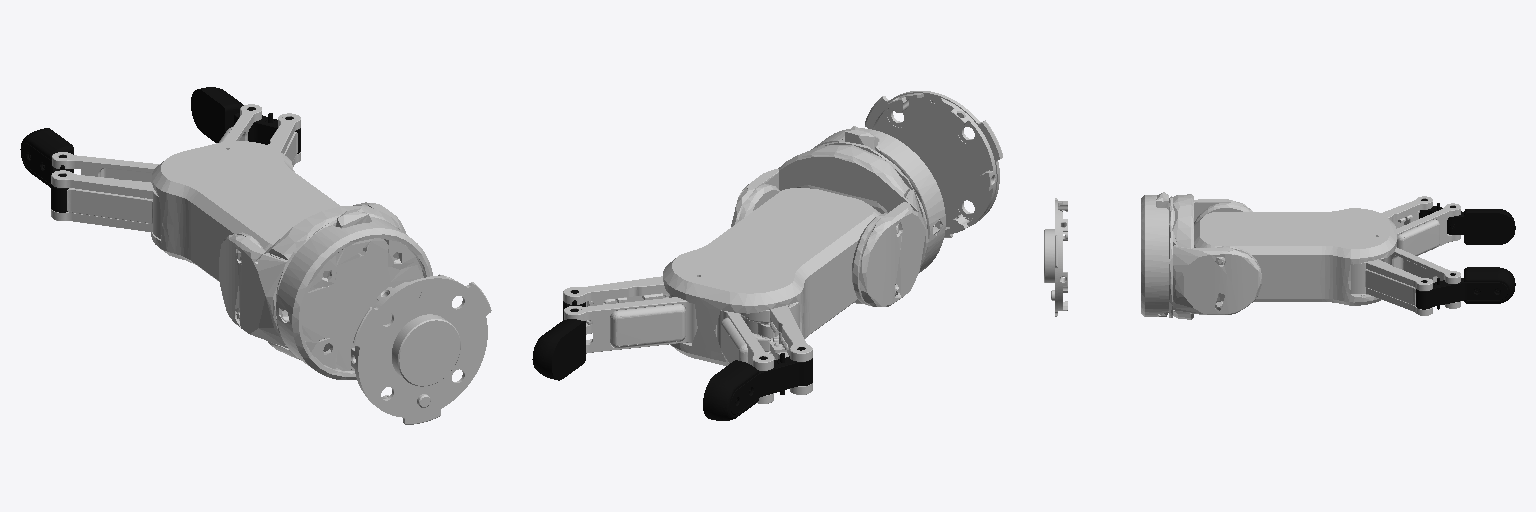
--- Facts derived from the render (not from the file) ---
Views: 3 orthographic renders of the robot side by side, from view 1: azimuth 30°, elevation 25°; view 2: azimuth 150°, elevation 25°; view 3: azimuth 270°, elevation 25°.
Model ur10e_robot_rg2 with 19 links and 18 joints (12 revolute, 6 fixed), rooted at base_link, posed every joint at zero.
Links seen in each view (by area): view 1: onrobot_rg2_base_link, hex_backplate_link, left_outer_knuckle, right_inner_finger, left_inner_finger, left_inner_knuckle, right_outer_knuckle, right_inner_knuckle; view 2: onrobot_rg2_base_link, hex_backplate_link, right_inner_knuckle, left_inner_finger, left_outer_knuckle, right_inner_finger, right_outer_knuckle, left_inner_knuckle; view 3: onrobot_rg2_base_link, right_inner_finger, right_outer_knuckle, left_inner_finger, left_inner_knuckle, hex_backplate_link, right_inner_knuckle, left_outer_knuckle.
Link boxes in pixels (<box>): onrobot_rg2_base_link: <box>151,141,432,379</box>; hex_backplate_link: <box>351,274,491,424</box>; left_outer_knuckle: <box>51,170,162,238</box>; right_inner_finger: <box>191,87,300,153</box>; left_inner_finger: <box>20,128,73,212</box>; left_inner_knuckle: <box>52,152,159,182</box>; right_outer_knuckle: <box>268,113,300,166</box>; right_inner_knuckle: <box>219,104,261,142</box>; onrobot_rg2_base_link: <box>663,126,945,365</box>; hex_backplate_link: <box>865,91,1002,237</box>; right_inner_knuckle: <box>564,297,697,353</box>; left_inner_finger: <box>703,347,812,420</box>; left_outer_knuckle: <box>740,302,812,394</box>; right_inner_finger: <box>532,290,585,380</box>; right_outer_knuckle: <box>563,276,673,334</box>; left_inner_knuckle: <box>717,310,773,403</box>; onrobot_rg2_base_link: <box>1141,192,1396,319</box>; right_inner_finger: <box>1416,267,1515,309</box>; right_outer_knuckle: <box>1350,259,1432,315</box>; left_inner_finger: <box>1419,199,1515,244</box>; left_inner_knuckle: <box>1396,203,1460,255</box>; hex_backplate_link: <box>1044,198,1067,316</box>; right_inner_knuckle: <box>1382,247,1460,308</box>; left_outer_knuckle: <box>1381,196,1432,228</box>.
Bounding box of the posed robot: 0.1235 × 0.2728 × 0.0753 m (x, y, z).
Meshes: 13 distinct files referenced, 8 mesh visuals loaded (5 Collada DAE); not drawn: 8 (reference not matched to a file when rendering).

URDF robot description (ur10e_robot_rg2):
<?xml version="1.0" encoding="utf-8" ?>
<!-- =================================================================================== -->
<!-- |    This document was autogenerated by xacro from ur10e_rg2.urdf.xacro           | -->
<!-- |    EDITING THIS FILE BY HAND IS NOT RECOMMENDED                                 | -->
<!-- =================================================================================== -->
<!-- =================================================================================== -->
<!-- |    This document was autogenerated by xacro from ur10e.xacro                    | -->
<!-- |    EDITING THIS FILE BY HAND IS NOT RECOMMENDED                                 | -->
<!-- =================================================================================== -->
<robot name="ur10e_robot_rg2">
    <transmission name="shoulder_pan_trans">
        <type>transmission_interface/SimpleTransmission</type>
        <joint name="shoulder_pan_joint">
            <hardwareInterface>hardware_interface/PositionJointInterface</hardwareInterface>
        </joint>
        <actuator name="shoulder_pan_motor">
            <mechanicalReduction>1</mechanicalReduction>
        </actuator>
    </transmission>
    <transmission name="shoulder_lift_trans">
        <type>transmission_interface/SimpleTransmission</type>
        <joint name="shoulder_lift_joint">
            <hardwareInterface>hardware_interface/PositionJointInterface</hardwareInterface>
        </joint>
        <actuator name="shoulder_lift_motor">
            <mechanicalReduction>1</mechanicalReduction>
        </actuator>
    </transmission>
    <transmission name="elbow_trans">
        <type>transmission_interface/SimpleTransmission</type>
        <joint name="elbow_joint">
            <hardwareInterface>hardware_interface/PositionJointInterface</hardwareInterface>
        </joint>
        <actuator name="elbow_motor">
            <mechanicalReduction>1</mechanicalReduction>
        </actuator>
    </transmission>
    <transmission name="wrist_1_trans">
        <type>transmission_interface/SimpleTransmission</type>
        <joint name="wrist_1_joint">
            <hardwareInterface>hardware_interface/PositionJointInterface</hardwareInterface>
        </joint>
        <actuator name="wrist_1_motor">
            <mechanicalReduction>1</mechanicalReduction>
        </actuator>
    </transmission>
    <transmission name="wrist_2_trans">
        <type>transmission_interface/SimpleTransmission</type>
        <joint name="wrist_2_joint">
            <hardwareInterface>hardware_interface/PositionJointInterface</hardwareInterface>
        </joint>
        <actuator name="wrist_2_motor">
            <mechanicalReduction>1</mechanicalReduction>
        </actuator>
    </transmission>
    <transmission name="wrist_3_trans">
        <type>transmission_interface/SimpleTransmission</type>
        <joint name="wrist_3_joint">
            <hardwareInterface>hardware_interface/PositionJointInterface</hardwareInterface>
        </joint>
        <actuator name="wrist_3_motor">
            <mechanicalReduction>1</mechanicalReduction>
        </actuator>
    </transmission>
    <!-- links: main serial chain -->
    <link name="base_link" />
    <link name="base_link_inertia">
        <visual>
            <origin rpy="0 0 3.14159265359" xyz="0 0 0" />
            <geometry>
                <mesh filename="package://ur10e_rg2_hex_tracik_moveit_config/description/meshes/ur10e/visual/base.dae" />
            </geometry>
            <material name="LightGrey">
                <color rgba="0.7 0.7 0.7 1.0" />
            </material>
        </visual>
        <collision>
            <origin rpy="0 0 3.14159265359" xyz="0 0 0" />
            <geometry>
                <mesh filename="package://ur10e_rg2_hex_tracik_moveit_config/description/meshes/ur10e/collision/base.stl" />
            </geometry>
        </collision>
        <inertial>
            <mass value="4.0" />
            <origin rpy="0 0 0" xyz="0 0 0" />
            <inertia ixx="0.0061063308908" ixy="0.0" ixz="0.0" iyy="0.0061063308908" iyz="0.0" izz="0.01125" />
        </inertial>
    </link>
    <link name="shoulder_link">
        <visual>
            <origin rpy="0 0 3.14159265359" xyz="0 0 0" />
            <geometry>
                <mesh filename="package://ur10e_rg2_hex_tracik_moveit_config/description/meshes/ur10e/visual/shoulder.dae" />
            </geometry>
            <material name="LightGrey">
                <color rgba="0.7 0.7 0.7 1.0" />
            </material>
        </visual>
        <collision>
            <origin rpy="0 0 3.14159265359" xyz="0 0 0" />
            <geometry>
                <mesh filename="package://ur10e_rg2_hex_tracik_moveit_config/description/meshes/ur10e/collision/shoulder.stl" />
            </geometry>
        </collision>
        <inertial>
            <mass value="7.778" />
            <origin rpy="0 0 0" xyz="0 0 0" />
            <inertia ixx="0.0314743125769" ixy="0.0" ixz="0.0" iyy="0.0314743125769" iyz="0.0" izz="0.021875625" />
        </inertial>
    </link>
    <link name="upper_arm_link">
        <visual>
            <origin rpy="1.57079632679 0 -1.57079632679" xyz="0 0 0.1762" />
            <geometry>
                <mesh filename="package://ur10e_rg2_hex_tracik_moveit_config/description/meshes/ur10e/visual/upperarm.dae" />
            </geometry>
            <material name="LightGrey">
                <color rgba="0.7 0.7 0.7 1.0" />
            </material>
        </visual>
        <collision>
            <origin rpy="1.57079632679 0 -1.57079632679" xyz="0 0 0.1762" />
            <geometry>
                <mesh filename="package://ur10e_rg2_hex_tracik_moveit_config/description/meshes/ur10e/collision/upperarm.stl" />
            </geometry>
        </collision>
        <inertial>
            <mass value="12.93" />
            <origin rpy="0 1.57079632679 0" xyz="-0.306 0.0 0.175" />
            <inertia ixx="0.421753803798" ixy="0.0" ixz="0.0" iyy="0.421753803798" iyz="0.0" izz="0.036365625" />
        </inertial>
    </link>
    <link name="forearm_link">
        <visual>
            <origin rpy="1.57079632679 0 -1.57079632679" xyz="0 0 0.0393" />
            <geometry>
                <mesh filename="package://ur10e_rg2_hex_tracik_moveit_config/description/meshes/ur10e/visual/forearm.dae" />
            </geometry>
            <material name="LightGrey">
                <color rgba="0.7 0.7 0.7 1.0" />
            </material>
        </visual>
        <collision>
            <origin rpy="1.57079632679 0 -1.57079632679" xyz="0 0 0.0393" />
            <geometry>
                <mesh filename="package://ur10e_rg2_hex_tracik_moveit_config/description/meshes/ur10e/collision/forearm.stl" />
            </geometry>
        </collision>
        <inertial>
            <mass value="3.87" />
            <origin rpy="0 1.57079632679 0" xyz="-0.285775 0.0 0.0393" />
            <inertia ixx="0.110793025489" ixy="0.0" ixz="0.0" iyy="0.110793025489" iyz="0.0" izz="0.010884375" />
        </inertial>
    </link>
    <link name="wrist_1_link">
        <visual>
            <!-- TODO: Move this to a parameter -->
            <origin rpy="1.57079632679 0 0" xyz="0 0 -0.135" />
            <geometry>
                <mesh filename="package://ur10e_rg2_hex_tracik_moveit_config/description/meshes/ur10e/visual/wrist1.dae" />
            </geometry>
            <material name="LightGrey">
                <color rgba="0.7 0.7 0.7 1.0" />
            </material>
        </visual>
        <collision>
            <origin rpy="1.57079632679 0 0" xyz="0 0 -0.135" />
            <geometry>
                <mesh filename="package://ur10e_rg2_hex_tracik_moveit_config/description/meshes/ur10e/collision/wrist1.stl" />
            </geometry>
        </collision>
        <inertial>
            <mass value="1.96" />
            <origin rpy="0 0 0" xyz="0 0 0" />
            <inertia ixx="0.0051082479567" ixy="0.0" ixz="0.0" iyy="0.0051082479567" iyz="0.0" izz="0.0055125" />
        </inertial>
    </link>
    <link name="wrist_2_link">
        <visual>
            <origin rpy="0 0 0" xyz="0 0 -0.12" />
            <geometry>
                <mesh filename="package://ur10e_rg2_hex_tracik_moveit_config/description/meshes/ur10e/visual/wrist2.dae" />
            </geometry>
            <material name="LightGrey">
                <color rgba="0.7 0.7 0.7 1.0" />
            </material>
        </visual>
        <collision>
            <origin rpy="0 0 0" xyz="0 0 -0.12" />
            <geometry>
                <mesh filename="package://ur10e_rg2_hex_tracik_moveit_config/description/meshes/ur10e/collision/wrist2.stl" />
            </geometry>
        </collision>
        <inertial>
            <mass value="1.96" />
            <origin rpy="0 0 0" xyz="0 0 0" />
            <inertia ixx="0.0051082479567" ixy="0.0" ixz="0.0" iyy="0.0051082479567" iyz="0.0" izz="0.0055125" />
        </inertial>
    </link>
    <link name="wrist_3_link">
        <visual>
            <origin rpy="1.57079632679 0 0" xyz="0 0 -0.1168" />
            <geometry>
                <mesh filename="package://ur10e_rg2_hex_tracik_moveit_config/description/meshes/ur10e/visual/wrist3.dae" />
            </geometry>
            <material name="LightGrey">
                <color rgba="0.7 0.7 0.7 1.0" />
            </material>
        </visual>
        <collision>
            <origin rpy="1.57079632679 0 0" xyz="0 0 -0.1168" />
            <geometry>
                <mesh filename="package://ur10e_rg2_hex_tracik_moveit_config/description/meshes/ur10e/collision/wrist3.stl" />
            </geometry>
        </collision>
        <inertial>
            <mass value="0.202" />
            <origin rpy="0 0 0" xyz="0.0 0.0 -0.025" />
            <inertia ixx="0.000144345775595" ixy="0.0" ixz="0.0" iyy="0.000144345775595" iyz="0.0" izz="0.000204525" />
        </inertial>
    </link>

    <!--Hex Sensor -->

    <link name="hex_link">
        <inertial>
            <origin rpy="0 0 0" xyz="0 0 0"/>
            <mass value="0.3" />
            <inertia ixx="1.0E-03" ixy="1.0E-06" ixz="1.0E-06" iyy="1.0E-03" iyz="1.0E-06" izz="1.0E-03"/>
        </inertial>
        <visual>
            <origin rpy="0 0 0" xyz="0 0 0" />
            <geometry>
                <mesh filename="package://ur10e_rg2_hex_tracik_moveit_config/description/meshes/hex/HEX_QC_2.dae" scale="0.001 0.001 0.001"/>
            </geometry>
            <material name="">
                <color rgba="0.8 0.8 0.8 1" />
            </material>
        </visual>
        <collision>
            <origin rpy="0 0 0" xyz="0 0 0" />
            <geometry>
                <mesh filename="package://ur10e_rg2_hex_tracik_moveit_config/description/meshes/hex/HEX_QC_2.STL" scale="0.001 0.001 0.001"/>
            </geometry>
        </collision>
    </link>
    
    <link name="hex_backplate_link">
        <inertial>
            <origin rpy="0 0 0" xyz="0 0 0"/>
            <mass value="0.3" />
            <inertia ixx="1.0E-03" ixy="1.0E-06" ixz="1.0E-06" iyy="1.0E-03" iyz="1.0E-06" izz="1.0E-03"/>
        </inertial>
        <visual>
            <origin rpy="0 0 0" xyz="0 0 0" />
            <geometry>
                <mesh filename="package://ur10e_rg2_hex_tracik_moveit_config/description/meshes/hex/HEX-E_H_QC_v3_backplate_A.dae" scale="0.001 0.001 0.001"/>
            </geometry>
            <material name="">
                <color rgba="0.8 0.8 0.8 1" />
            </material>
        </visual>
        <collision>
            <origin rpy="0 0 0" xyz="0 0 0" />
            <geometry>
                <mesh filename="package://ur10e_rg2_hex_tracik_moveit_config/description/meshes/hex/HEX-E_H_QC_v3_backplate_A.stl" scale="0.001 0.001 0.001"/>
            </geometry>
        </collision>
    </link>
    
    <!--Hand Base Link -->
    <link name="onrobot_rg2_base_link">
        <inertial>
            <origin rpy="0 0 0" xyz="0.0 0.0 0.0" />
            <mass value="0.7" />
            <inertia ixx="1.0E-03" ixy="1.0E-06" ixz="1.0E-06" iyy="1.0E-03" iyz="1.0E-06" izz="1.0E-03" />
        </inertial>
        <visual>
            <origin rpy="0 0 0" xyz="0 0 0" />
            <geometry>
                <mesh filename="package://ur10e_rg2_hex_tracik_moveit_config/description/meshes/onrobot_rg2/visual/base_link.dae" />
            </geometry>
            <material name="">
                <color rgba="0.8 0.8 0.8 1" />
            </material>
        </visual>
        <collision>
            <origin rpy="0 0 0" xyz="0 0 0" />
            <geometry>
                <mesh filename="package://ur10e_rg2_hex_tracik_moveit_config/description/meshes/onrobot_rg2/collision/base_link.stl" />
            </geometry>
        </collision>
    </link>
    <link name="left_outer_knuckle">
        <inertial>
            <origin rpy="0 0 0" xyz="0.0 0.0 0.0" />
            <mass value="0.05" />
            <inertia ixx="1.0E-03" ixy="1.0E-06" ixz="1.0E-06" iyy="1.0E-03" iyz="1.0E-06" izz="1.0E-03" />
        </inertial>
        <visual>
            <origin rpy="0 0 0" xyz="0 0 0" />
            <geometry>
                <mesh filename="package://ur10e_rg2_hex_tracik_moveit_config/description/meshes/onrobot_rg2/visual/outer_knuckle.dae" />
            </geometry>
            <material name="">
                <color rgba="0.8 0.8 0.8 1" />
            </material>
        </visual>
        <collision>
            <origin rpy="0 0 0" xyz="0 0 0" />
            <geometry>
                <mesh filename="package://ur10e_rg2_hex_tracik_moveit_config/description/meshes/onrobot_rg2/collision/outer_knuckle.stl" />
            </geometry>
        </collision>
    </link>
    <gazebo reference="left_outer_knuckle">
        <mu1>0.1</mu1>
        <mu2>0.1</mu2>
        <selfCollide>false</selfCollide>
        <material>Gazebo/White</material>
    </gazebo>
    <link name="left_inner_knuckle">
        <inertial>
            <origin rpy="0 0 0" xyz="0.0 0.0 0.0" />
            <mass value="0.05" />
            <inertia ixx="1.0E-03" ixy="1.0E-06" ixz="1.0E-06" iyy="1.0E-03" iyz="1.0E-06" izz="1.0E-03" />
        </inertial>
        <visual>
            <origin rpy="0 0 0" xyz="0 0 0" />
            <geometry>
                <mesh filename="package://ur10e_rg2_hex_tracik_moveit_config/description/meshes/onrobot_rg2/visual/inner_knuckle.dae" />
            </geometry>
            <material name="">
                <color rgba="0.8 0.8 0.8 1" />
            </material>
        </visual>
        <collision>
            <origin rpy="0 0 0" xyz="0 0 0" />
            <geometry>
                <mesh filename="package://ur10e_rg2_hex_tracik_moveit_config/description/meshes/onrobot_rg2/collision/inner_knuckle.stl" />
            </geometry>
        </collision>
    </link>
    <gazebo reference="left_inner_knuckle">
        <mu1>0.1</mu1>
        <mu2>0.1</mu2>
        <selfCollide>false</selfCollide>
        <material>Gazebo/White</material>
    </gazebo>
    <link name="left_inner_finger">
        <inertial>
            <origin rpy="0 0 0" xyz="0.0 0.0 0.0" />
            <mass value="0.05" />
            <inertia ixx="1.0E-03" ixy="1.0E-06" ixz="1.0E-06" iyy="1.0E-03" iyz="1.0E-06" izz="1.0E-03" />
        </inertial>
        <visual>
            <origin rpy="0 0 0" xyz="0 0 0" />
            <geometry>
                <mesh filename="package://ur10e_rg2_hex_tracik_moveit_config/description/meshes/onrobot_rg2/visual/inner_finger.dae" />
            </geometry>
            <material name="">
                <color rgba="0.1 0.1 0.1 1" />
            </material>
        </visual>
        <collision>
            <origin rpy="0 0 0" xyz="0 0 0" />
            <geometry>
                <mesh filename="package://ur10e_rg2_hex_tracik_moveit_config/description/meshes/onrobot_rg2/collision/inner_finger.stl" />
            </geometry>
        </collision>
    </link>
    <gazebo reference="left_inner_finger">
        <kp>1000000.0</kp>
        <kd>1.0</kd>
        <kd>1.0</kd>
        <mu1>1.0</mu1>
        <mu2>1.0</mu2>
        <minDepth>0.00001</minDepth>
        <selfCollide>false</selfCollide>
        <material>Gazebo/Black</material>
    </gazebo>
    <link name="right_outer_knuckle">
        <inertial>
            <origin rpy="0 0 0" xyz="0.0 0.0 0.0" />
            <mass value="0.05" />
            <inertia ixx="1.0E-03" ixy="1.0E-06" ixz="1.0E-06" iyy="1.0E-03" iyz="1.0E-06" izz="1.0E-03" />
        </inertial>
        <visual>
            <origin rpy="0 0 0" xyz="0 0 0" />
            <geometry>
                <mesh filename="package://ur10e_rg2_hex_tracik_moveit_config/description/meshes/onrobot_rg2/visual/outer_knuckle.dae" />
            </geometry>
            <material name="">
                <color rgba="0.8 0.8 0.8 1" />
            </material>
        </visual>
        <collision>
            <origin rpy="0 0 0" xyz="0 0 0" />
            <geometry>
                <mesh filename="package://ur10e_rg2_hex_tracik_moveit_config/description/meshes/onrobot_rg2/collision/outer_knuckle.stl" />
            </geometry>
        </collision>
    </link>
    <gazebo reference="right_outer_knuckle">
        <mu1>0.1</mu1>
        <mu2>0.1</mu2>
        <selfCollide>false</selfCollide>
        <material>Gazebo/White</material>
    </gazebo>
    <link name="right_inner_knuckle">
        <inertial>
            <origin rpy="0 0 0" xyz="0.0 0.0 0.0" />
            <mass value="0.05" />
            <inertia ixx="1.0E-03" ixy="1.0E-06" ixz="1.0E-06" iyy="1.0E-03" iyz="1.0E-06" izz="1.0E-03" />
        </inertial>
        <visual>
            <origin rpy="0 0 0" xyz="0 0 0" />
            <geometry>
                <mesh filename="package://ur10e_rg2_hex_tracik_moveit_config/description/meshes/onrobot_rg2/visual/inner_knuckle.dae" />
            </geometry>
            <material name="">
                <color rgba="0.8 0.8 0.8 1" />
            </material>
        </visual>
        <collision>
            <origin rpy="0 0 0" xyz="0 0 0" />
            <geometry>
                <mesh filename="package://ur10e_rg2_hex_tracik_moveit_config/description/meshes/onrobot_rg2/collision/inner_knuckle.stl" />
            </geometry>
        </collision>
    </link>
    <gazebo reference="right_inner_knuckle">
        <mu1>0.1</mu1>
        <mu2>0.1</mu2>
        <selfCollide>false</selfCollide>
        <material>Gazebo/White</material>
    </gazebo>
    <link name="right_inner_finger">
        <inertial>
            <origin rpy="0 0 0" xyz="0.0 0.0 0.0" />
            <mass value="0.05" />
            <inertia ixx="1.0E-03" ixy="1.0E-06" ixz="1.0E-06" iyy="1.0E-03" iyz="1.0E-06" izz="1.0E-03" />
        </inertial>
        <visual>
            <origin rpy="0 0 0" xyz="0 0 0" />
            <geometry>
                <mesh filename="package://ur10e_rg2_hex_tracik_moveit_config/description/meshes/onrobot_rg2/visual/inner_finger.dae" />
            </geometry>
            <material name="">
                <color rgba="0.1 0.1 0.1 1" />
            </material>
        </visual>
        <collision>
            <origin rpy="0 0 0" xyz="0 0 0" />
            <geometry>
                <mesh filename="package://ur10e_rg2_hex_tracik_moveit_config/description/meshes/onrobot_rg2/collision/inner_finger.stl" />
            </geometry>
        </collision>
    </link>
    <gazebo reference="right_inner_finger">
        <kp>1000000.0</kp>
        <kd>1.0</kd>
        <kd>1.0</kd>
        <mu1>1.0</mu1>
        <mu2>1.0</mu2>
        <minDepth>0.00001</minDepth>
        <selfCollide>false</selfCollide>
        <material>Gazebo/Black</material>
    </gazebo>
    <joint name="finger_joint" type="revolute">
        <origin rpy="0 0 0" xyz="0 -0.017178 0.125797" />
        <parent link="onrobot_rg2_base_link" />
        <child link="left_outer_knuckle" />
        <axis xyz="-1 0 0" />
        <limit effort="1000" lower="-0.558505" upper="0.785398" velocity="100.0" />
    </joint>
    <joint name="left_inner_knuckle_joint" type="revolute">
        <origin rpy="0 0 0.0" xyz="0 -0.007678 0.1422970" />
        <parent link="onrobot_rg2_base_link" />
        <child link="left_inner_knuckle" />
        <axis xyz="1 0 0" />
        <limit effort="1000" lower="-0.785398" upper="0.785398" velocity="100.0" />
        <mimic joint="finger_joint" multiplier="-1" offset="0" />
    </joint>
    <joint name="left_inner_finger_joint" type="revolute">
        <origin rpy="0 0 0" xyz="0 -0.039592 0.038177" />
        <parent link="left_outer_knuckle" />
        <child link="left_inner_finger" />
        <axis xyz="1 0 0" />
        <limit effort="1000" lower="-0.872665" upper="0.872665" velocity="100.0" />
        <mimic joint="finger_joint" multiplier="1" offset="0" />
    </joint>
    <joint name="right_outer_knuckle_joint" type="revolute">
        <origin rpy="0 0 3.14159265359" xyz="0 0.017178 0.125797" />
        <parent link="onrobot_rg2_base_link" />
        <child link="right_outer_knuckle" />
        <axis xyz="1 0 0" />
        <limit effort="1000" lower="-0.785398" upper="0.785398" velocity="100.0" />
        <mimic joint="finger_joint" multiplier="-1" offset="0" />
    </joint>
    <joint name="right_inner_knuckle_joint" type="revolute">
        <origin rpy="0 0 -3.14159265359" xyz="0 0.007678 0.1422970" />
        <parent link="onrobot_rg2_base_link" />
        <child link="right_inner_knuckle" />
        <axis xyz="1 0 0" />
        <limit effort="1000" lower="-0.785398" upper="0.785398" velocity="100.0" />
        <mimic joint="finger_joint" multiplier="-1" offset="0" />
    </joint>
    <joint name="right_inner_finger_joint" type="revolute">
        <origin rpy="0 0 0" xyz="0 -0.039592 0.038177" />
        <parent link="right_outer_knuckle" />
        <child link="right_inner_finger" />
        <axis xyz="1 0 0" />
        <limit effort="1000" lower="-0.872665" upper="0.872665" velocity="100.0" />
        <mimic joint="finger_joint" multiplier="1" offset="0" />
    </joint>
    <transmission name="finger_joint_trans">
        <type>transmission_interface/SimpleTransmission</type>
        <joint name="finger_joint">
            <hardwareInterface>hardware_interface/EffortJointInterface</hardwareInterface>
        </joint>
        <actuator name="finger_joint_motor">
            <hardwareInterface>hardware_interface/EffortJointInterface</hardwareInterface>
            <mechanicalReduction>1</mechanicalReduction>
        </actuator>
    </transmission>
    <gazebo>
        <plugin filename="libgazebo_ros_control.so" name="gazebo_ros_control">
            <robotNamespace>/onrobot_rg2</robotNamespace>
            <robotSimType>gazebo_ros_control/DefaultRobotHWSim</robotSimType>
        </plugin>
    </gazebo>
    <gazebo>
        <plugin filename="libroboticsgroup_upatras_gazebo_mimic_joint_plugin.so" name="mimic_left_inner_knuckle_joint">
            <joint>finger_joint</joint>
            <mimicJoint>left_inner_knuckle_joint</mimicJoint>
            <multiplier>-1.0</multiplier>
            <offset>0.0</offset>
            <maxEffort>5.0</maxEffort>
            <!-- <hasPID /> -->
        </plugin>
        <plugin filename="libroboticsgroup_upatras_gazebo_mimic_joint_plugin.so" name="mimic_right_inner_knuckle_joint">
            <joint>finger_joint</joint>
            <mimicJoint>right_inner_knuckle_joint</mimicJoint>
            <multiplier>-1.0</multiplier>
            <offset>0.0</offset>
            <maxEffort>5.0</maxEffort>
            <!-- <hasPID /> -->
        </plugin>
        <plugin filename="libroboticsgroup_upatras_gazebo_mimic_joint_plugin.so" name="mimic_left_inner_finger_joint">
            <joint>finger_joint</joint>
            <mimicJoint>left_inner_finger_joint</mimicJoint>
            <multiplier>1.0</multiplier>
            <offset>0.0</offset>
            <maxEffort>5.0</maxEffort>
            <!-- <hasPID /> -->
        </plugin>
        <plugin filename="libroboticsgroup_upatras_gazebo_mimic_joint_plugin.so" name="mimic_right_inner_finger_joint">
            <joint>finger_joint</joint>
            <mimicJoint>right_inner_finger_joint</mimicJoint>
            <multiplier>1.0</multiplier>
            <offset>0.0</offset>
            <maxEffort>5.0</maxEffort>
            <!-- <hasPID /> -->
        </plugin>
        <plugin filename="libroboticsgroup_upatras_gazebo_mimic_joint_plugin.so" name="mimic_right_outer_knuckle_joint">
            <joint>finger_joint</joint>
            <mimicJoint>right_outer_knuckle_joint</mimicJoint>
            <multiplier>-1.0</multiplier>
            <offset>0.0</offset>
            <maxEffort>5.0</maxEffort>
            <!-- <hasPID /> -->
        </plugin>
    </gazebo>

    
    <!-- joints: main serial chain -->
    <joint name="base_link-base_link_inertia" type="fixed">
        <parent link="base_link" />
        <child link="base_link_inertia" />
        <!-- 'base_link' is REP-103 aligned (so X+ forward), while the internal
           frames of the robot/controller have X+ pointing backwards.
           Use the joint between 'base_link' and 'base_link_inertia' (a dummy
           link/frame) to introduce the necessary rotation over Z (of pi rad).
      -->
        <origin rpy="0 0 3.14159265359" xyz="0 0 0" />
    </joint>
    <joint name="shoulder_pan_joint" type="revolute">
        <parent link="base_link_inertia" />
        <child link="shoulder_link" />
        <origin rpy="0 0 0" xyz="0 0 0.1807" />
        <axis xyz="0 0 1" />
        <limit effort="330.0" lower="-6.28318530718" upper="6.28318530718" velocity="2.09439510239" />
        <dynamics damping="0" friction="0" />
    </joint>
    <joint name="shoulder_lift_joint" type="revolute">
        <parent link="shoulder_link" />
        <child link="upper_arm_link" />
        <origin rpy="1.570796327 0 0" xyz="0 0 0" />
        <axis xyz="0 0 1" />
        <limit effort="330.0" lower="-6.28318530718" upper="6.28318530718" velocity="2.09439510239" />
        <dynamics damping="0" friction="0" />
    </joint>
    <joint name="elbow_joint" type="revolute">
        <parent link="upper_arm_link" />
        <child link="forearm_link" />
        <origin rpy="0 0 0" xyz="-0.6127 0 0" />
        <axis xyz="0 0 1" />
        <limit effort="150.0" lower="-3.14159265359" upper="3.14159265359" velocity="3.14159265359" />
        <dynamics damping="0" friction="0" />
    </joint>
    <joint name="wrist_1_joint" type="revolute">
        <parent link="forearm_link" />
        <child link="wrist_1_link" />
        <origin rpy="0 0 0" xyz="-0.57155 0 0.17415" />
        <axis xyz="0 0 1" />
        <limit effort="56.0" lower="-6.28318530718" upper="6.28318530718" velocity="3.14159265359" />
        <dynamics damping="0" friction="0" />
    </joint>
    <joint name="wrist_2_joint" type="revolute">
        <parent link="wrist_1_link" />
        <child link="wrist_2_link" />
        <origin rpy="1.570796327 0 0" xyz="0 -0.11985 -2.45816459076e-11" />
        <axis xyz="0 0 1" />
        <limit effort="56.0" lower="-6.28318530718" upper="6.28318530718" velocity="3.14159265359" />
        <dynamics damping="0" friction="0" />
    </joint>
    <joint name="wrist_3_joint" type="revolute">
        <parent link="wrist_2_link" />
        <child link="wrist_3_link" />
        <origin rpy="1.57079632659 3.14159265359 3.14159265359" xyz="0 0.11655 -2.39048045935e-11" />
        <axis xyz="0 0 1" />
        <limit effort="56.0" lower="-6.28318530718" upper="6.28318530718" velocity="3.14159265359" />
        <dynamics damping="0" friction="0" />
    </joint>
    <!-- ROS-Industrial 'base' frame: base_link to UR 'Base' Coordinates transform -->
    <link name="base" />
    <joint name="base_link-base_fixed_joint" type="fixed">
        <!-- Note the rotation over Z of pi radians: as base_link is REP-103
           aligned (ie: has X+ forward, Y+ left and Z+ up), this is needed
           to correctly align 'base' with the 'Base' coordinate system of
           the UR controller.
      -->
        <origin rpy="0 0 3.14159265359" xyz="0 0 0" />
        <parent link="base_link" />
        <child link="base" />
    </joint>
    <!-- ROS-Industrial 'flange' frame: attachment point for EEF models -->
    <joint name="wrist_3_hex_backplate" type="fixed">
        <parent link="wrist_3_link" />
        <child link="hex_backplate_link" />
        <origin rpy="-1.57079632659 3.14159265359 0" xyz="0 0 0" />
    </joint>
    <joint name="wrist_3_hex" type="fixed">
        <parent link="hex_backplate_link" />
        <child link="hex_link" />
        <origin rpy="1.57079632659 3.14159265359 3.14159265359" xyz="0 0 0" />
    </joint>
    <joint name="wrist_3_hand" type="fixed">
        <parent link="hex_link" />
        <child link="onrobot_rg2_base_link" />
        <origin rpy="3.14159265359 3.14159265359 1.57079632679" xyz="0 0 0.05" />
    </joint>
    
    <!-- ROS-Industrial 'tool0' frame: all-zeros tool frame -->
    <link name="tool0" />
    <joint name="flange-tool0" type="fixed">
        <!-- default toolframe: X+ left, Y+ up, Z+ front -->
        <origin rpy="1.57079632679 0 1.57079632679" xyz="0 0 0" />
        <parent link="onrobot_rg2_base_link" />
        <child link="tool0" />
    </joint>
    
</robot>
